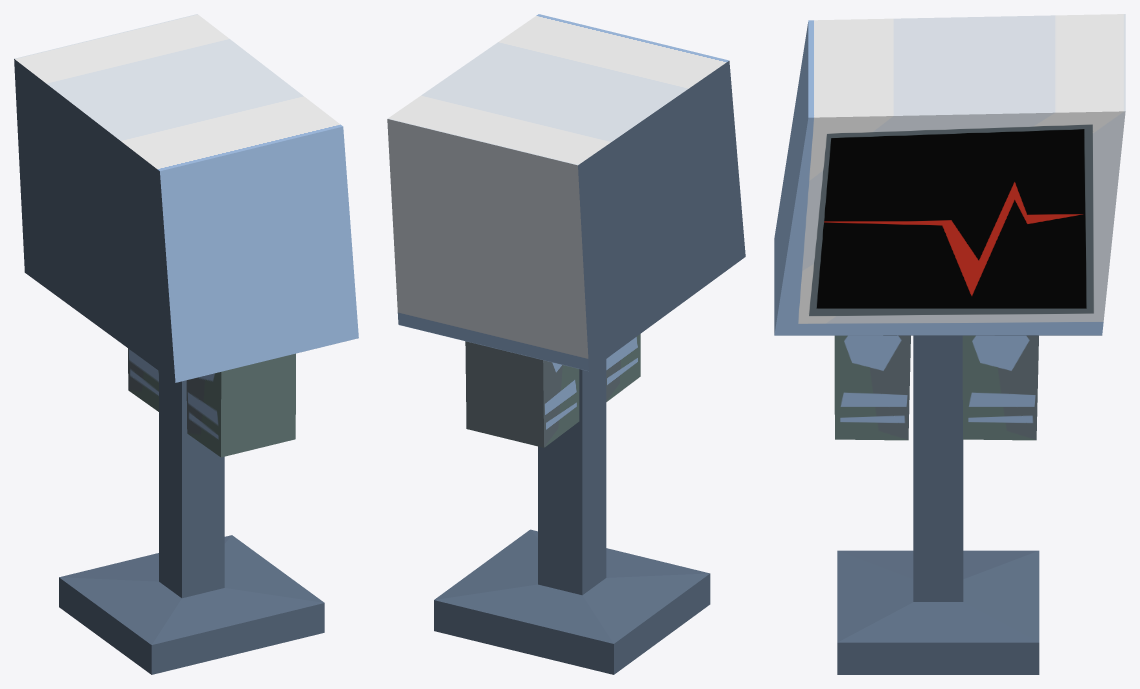
File: barbara.fbx
3 renders of one model, left to right at view 1: azimuth 30°, elevation 25°; view 2: azimuth 150°, elevation 25°; view 3: azimuth 270°, elevation 25°, orthographic. The views are drawn at different scales.
Parts seen in each view (by area): view 1: tutorial tv; view 2: tutorial tv; view 3: tutorial tv.
Part boxes in pixels (left/top/right/bottom): tutorial tv: left=14, top=14, right=358, bottom=674; tutorial tv: left=387, top=14, right=745, bottom=674; tutorial tv: left=774, top=14, right=1125, bottom=674.
Size of the model in its own units: 34.84 by 94.5 by 53.11.
